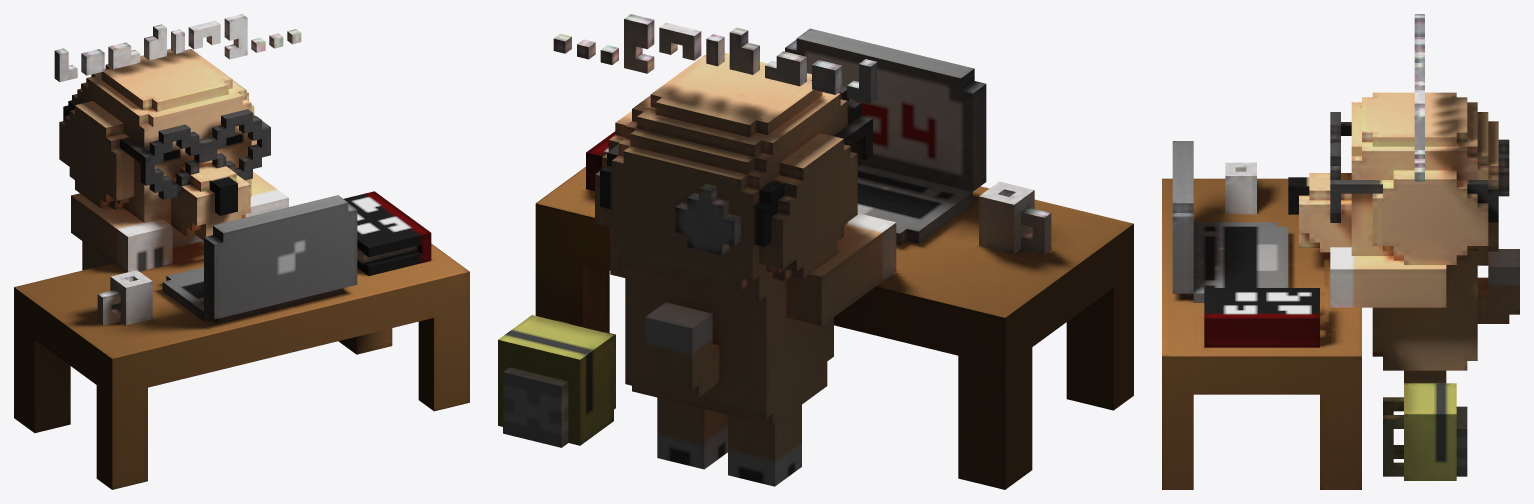
The model's file is retriever.glb.
3 views of the same model, side by side, from view 1: azimuth 30°, elevation 25°; view 2: azimuth 150°, elevation 25°; view 3: azimuth 270°, elevation 25° (orthographic). The views are drawn at different scales.
Visible parts, largest first — view 1: vox-main-0-dog; view 2: vox-main-0-dog; view 3: vox-main-0-dog.
Part boxes in pixels (x1,y1,x2,y2): vox-main-0-dog: (14,14,469,489); vox-main-0-dog: (498,14,1133,489); vox-main-0-dog: (1162,14,1519,489).
Bounding box in the file's own units: 4 × 3.5 × 3.4.
Materials: 1 (1 with a texture image).
